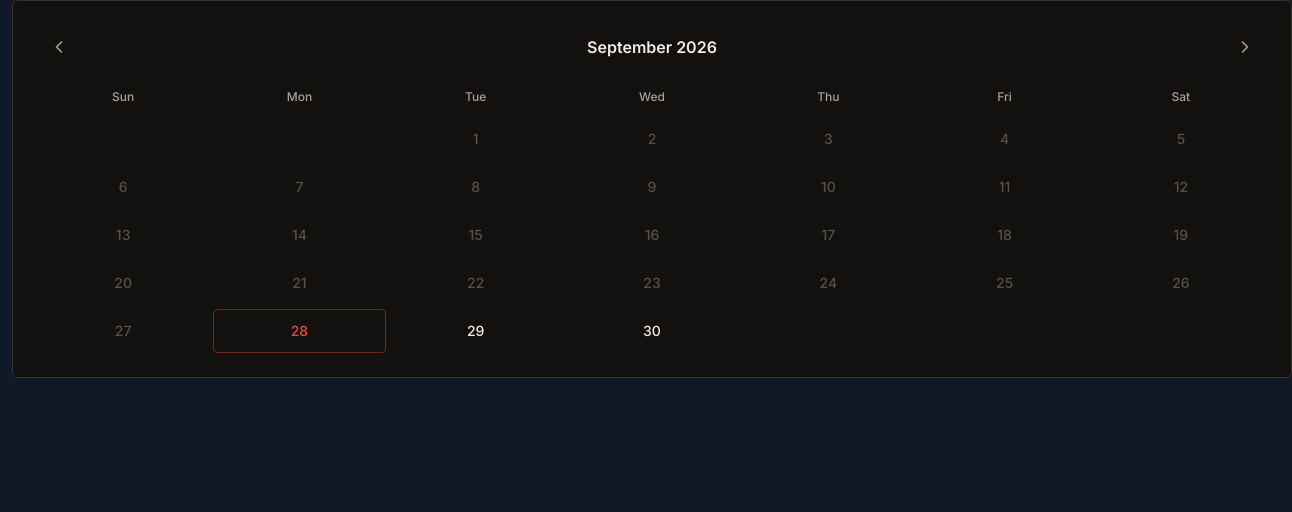
Test: InChatCalendar › retracts the pick if the backend stops being bookable
Click the button "28" at (299, 331), box [213,309,386,353]
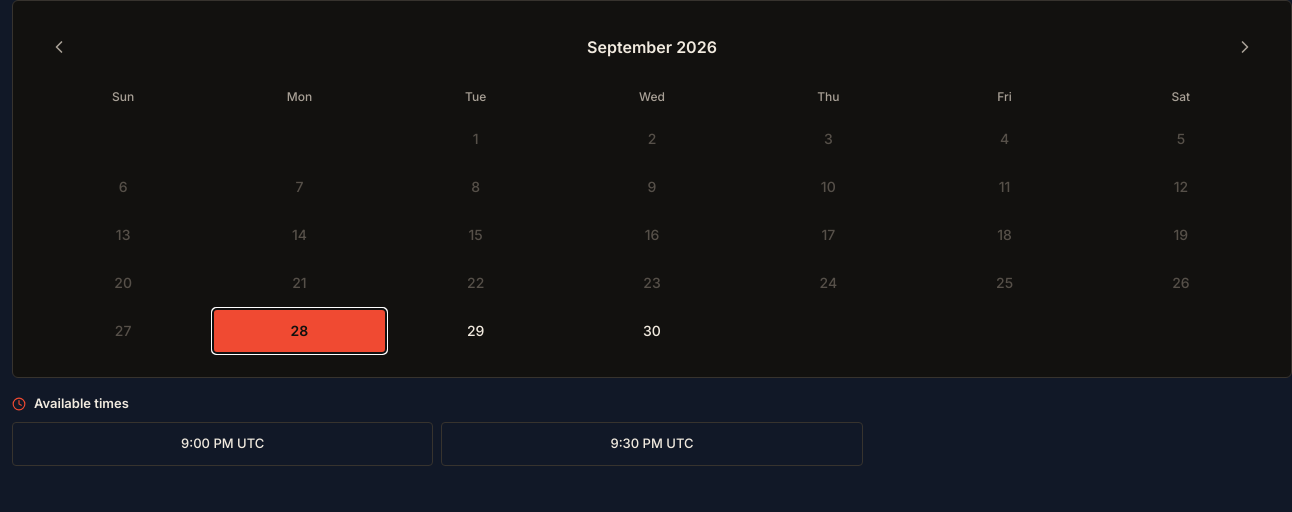
Click the button "9:00 PM UTC" at (223, 444), box [12,422,433,466]
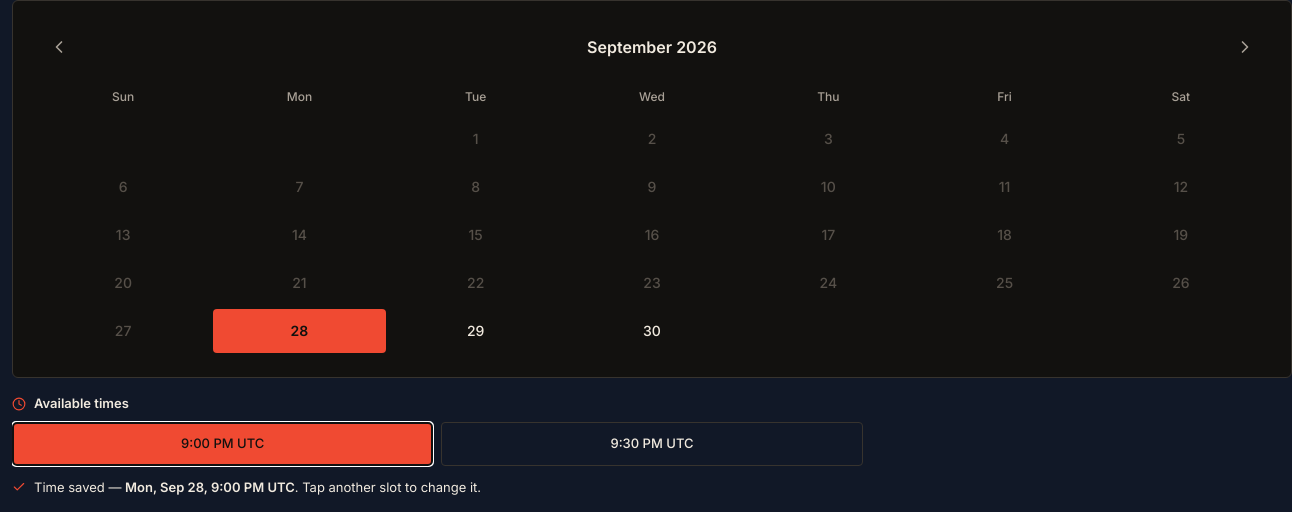
Expected: the text "Time saved" is shown, [34,478,125,494]
Click the button "29" at (476, 331), box [390,309,562,353]
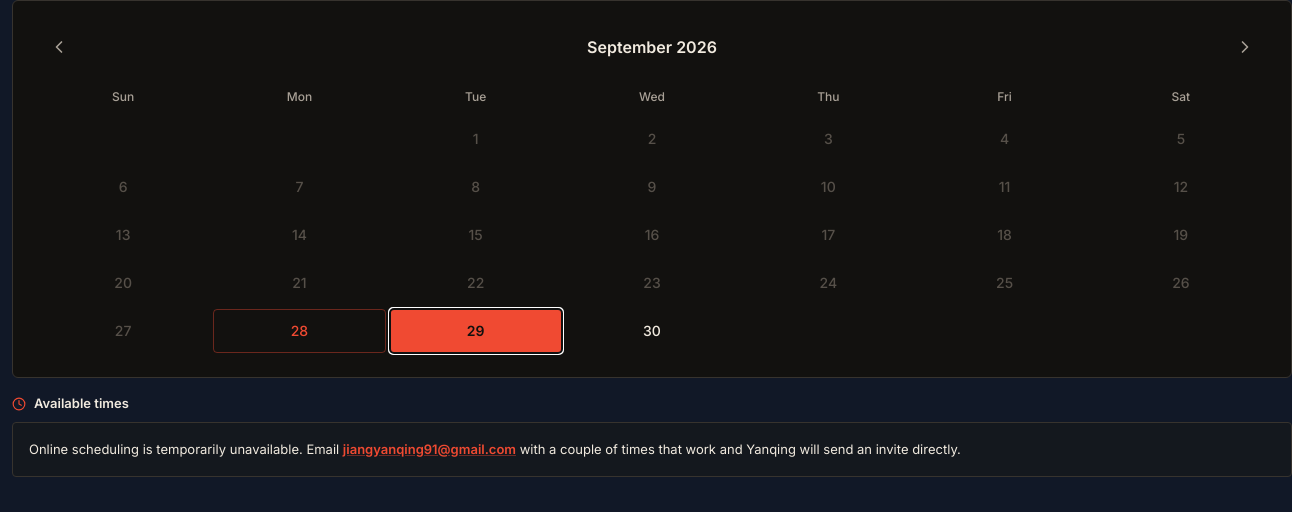
Expected: the text "temporarily unavailable" is shown, [29,440,339,456]
